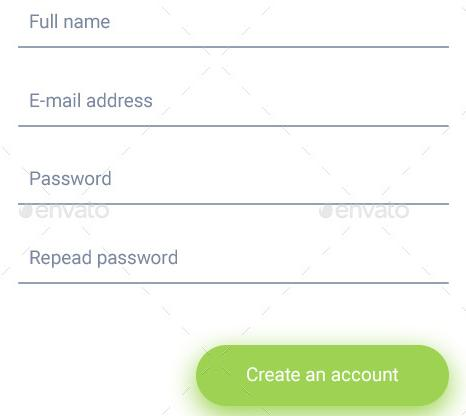button: (196, 342, 447, 408)
field_line: (17, 166, 453, 210), (13, 88, 452, 131), (13, 9, 453, 51), (14, 246, 449, 287)
